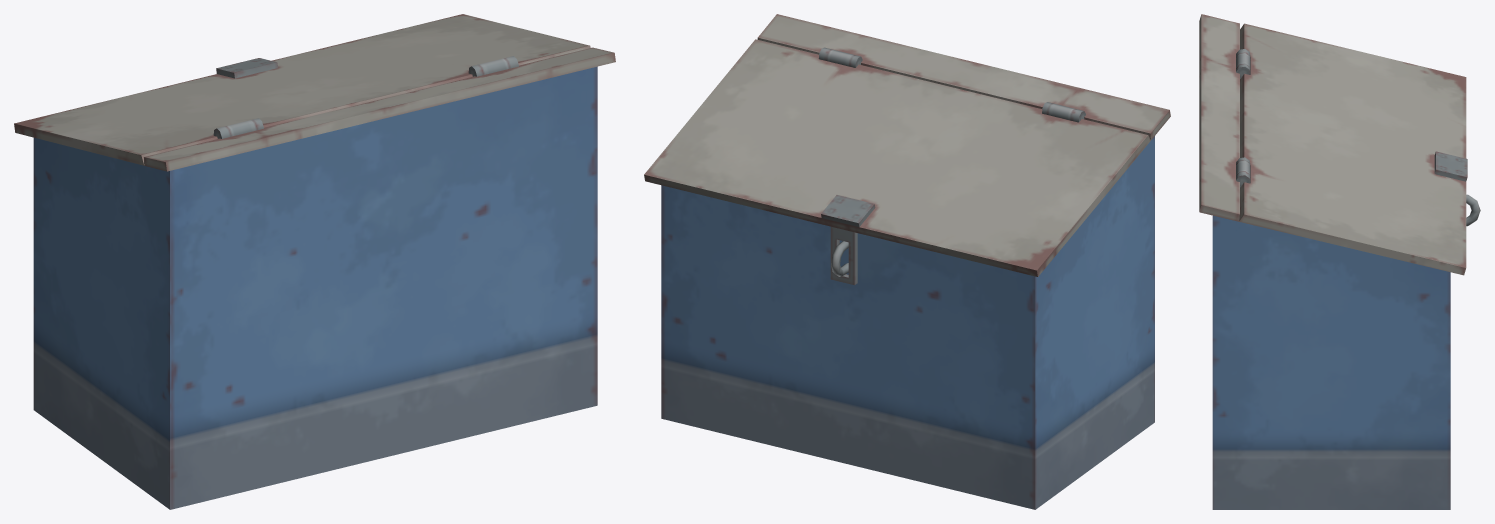
Rendered from Chest.fbx.
The picture shows the model from 3 angles, left to right: view 1: azimuth 30°, elevation 25°; view 2: azimuth 150°, elevation 25°; view 3: azimuth 270°, elevation 25°; orthographic projection. The views are drawn at different scales.
Visible parts, largest first — view 1: polySurface1087; view 2: polySurface1087; view 3: polySurface1087.
Boxes of the visible parts, left/top/right/bottom form: polySurface1087: left=14, top=14, right=615, bottom=509; polySurface1087: left=644, top=14, right=1170, bottom=509; polySurface1087: left=1199, top=14, right=1480, bottom=509.
Size of the model in its own units: 127 by 95.85 by 78.95.
